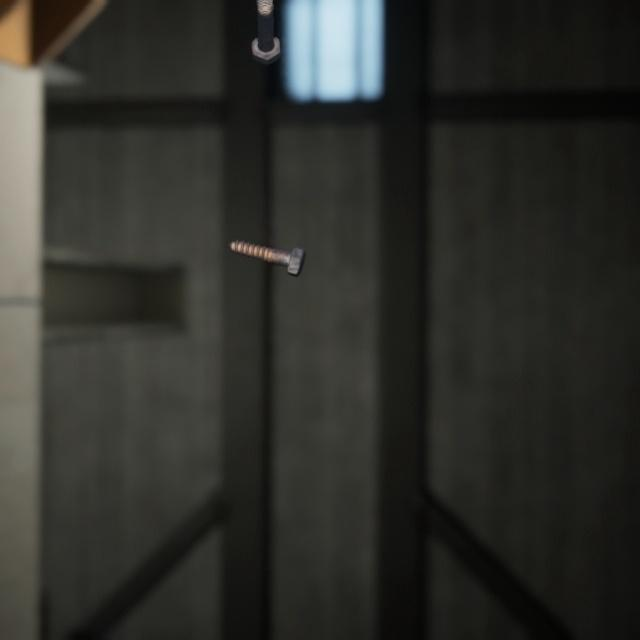bolt: (224, 218, 310, 264), (247, 0, 285, 60)
